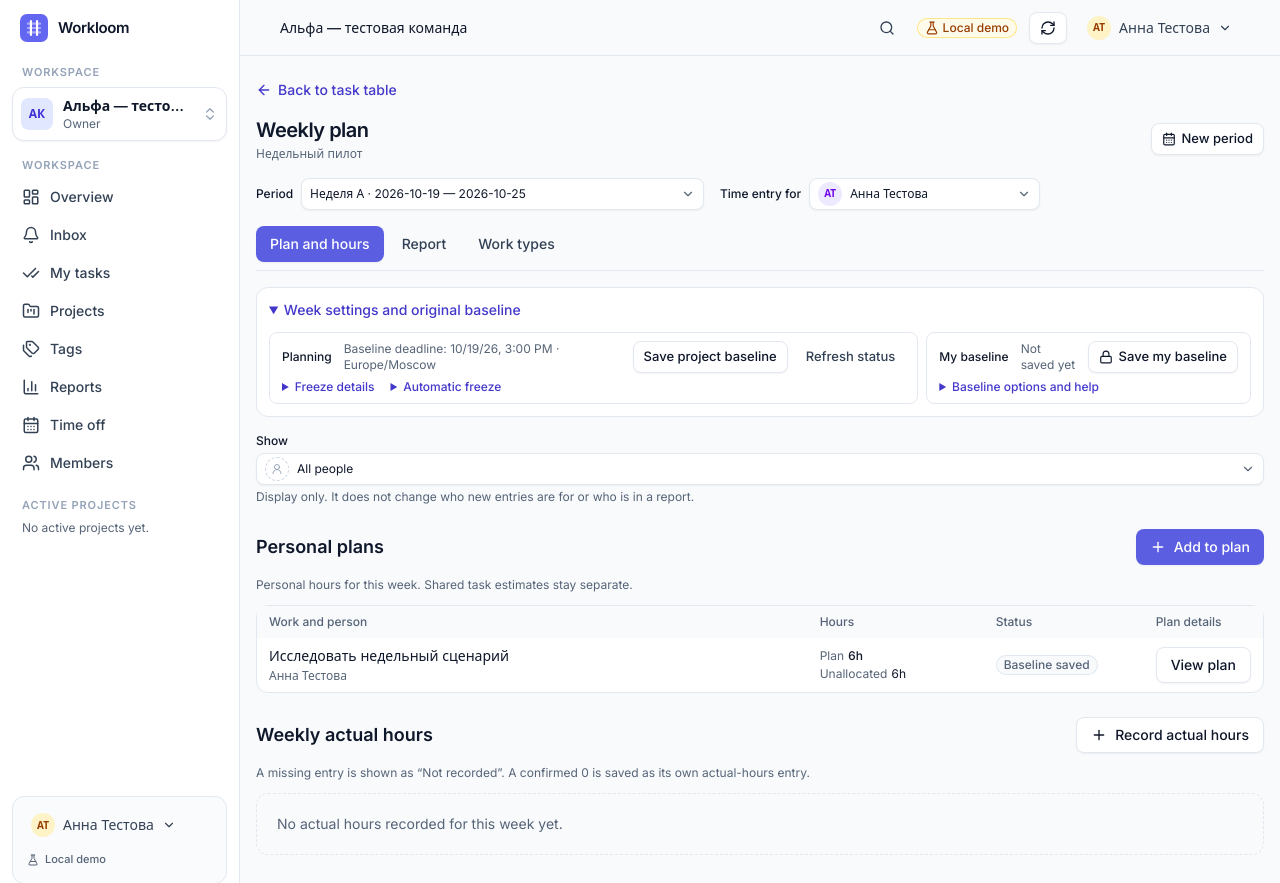
Test: original estimate in weekly planning › shows the current shared budget alongside an unknown immutable original on a saved locked plan
Click the button "View plan". click: (1203, 665)
box: [1156, 647, 1251, 683]
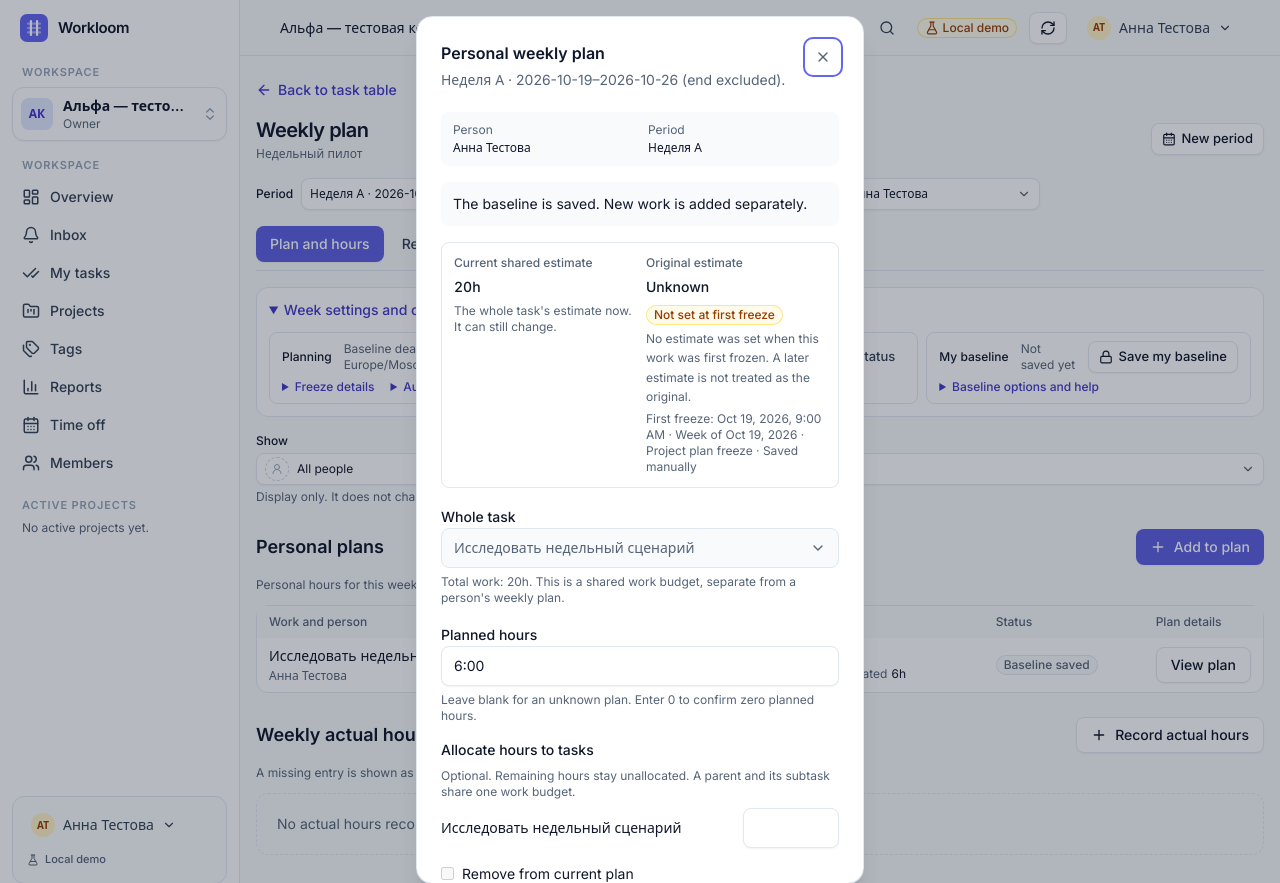
Expected: the element "Current shared estimate" shows "20h", [454, 278, 481, 295]
Expected: the text "Unknown" is shown, [646, 277, 709, 297]
Expected: the field labelled "Planned hours" is disabled, [441, 646, 839, 686]
